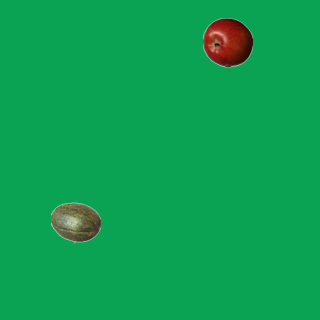Apple Braeburn: (202, 17, 252, 67)
Melon Piel de Sapo: (50, 197, 100, 247)
